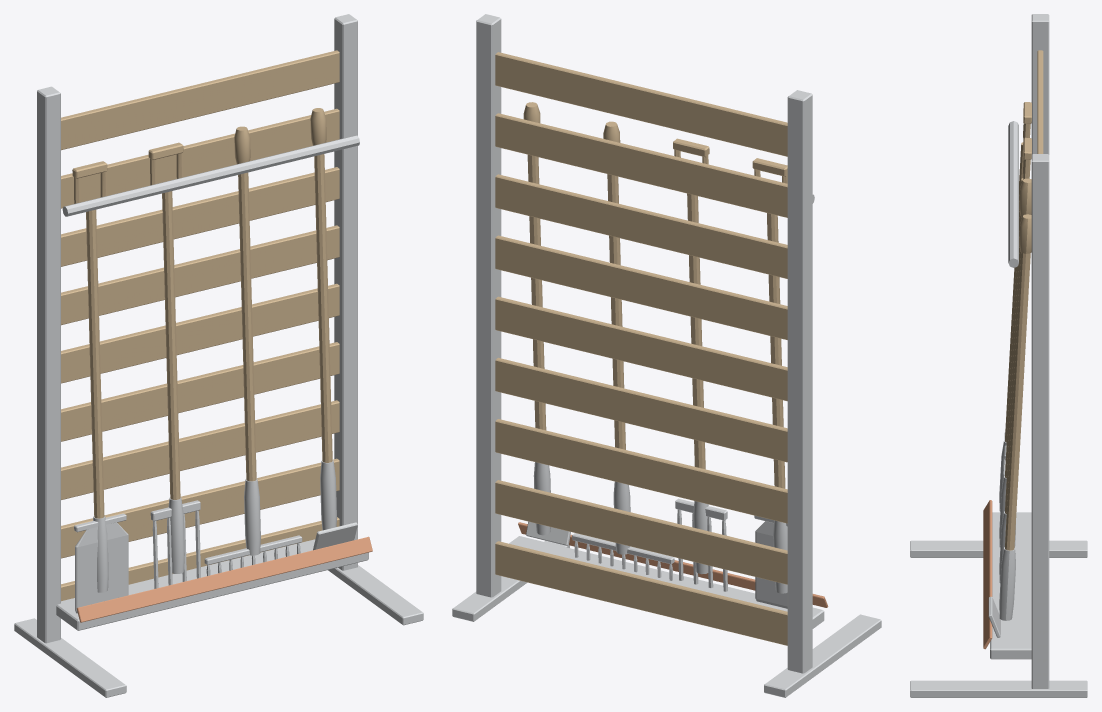
File: garden-centre-and-florist-tool-wall-bay-bda63c42__17745.glb
3 views of the same model, side by side, from view 1: azimuth 30°, elevation 25°; view 2: azimuth 150°, elevation 25°; view 3: azimuth 270°, elevation 25° (orthographic). The views are drawn at different scales.
Parts seen in each view (by area): view 1: tool-wall-bay; view 2: tool-wall-bay; view 3: tool-wall-bay.
Boxes of the visible parts, x1,y1,x2,y2 form: tool-wall-bay: (14,14,423,697); tool-wall-bay: (452,14,881,697); tool-wall-bay: (910,14,1087,697).
Size of the model in its own units: 1.2 by 2 by 0.5999.
